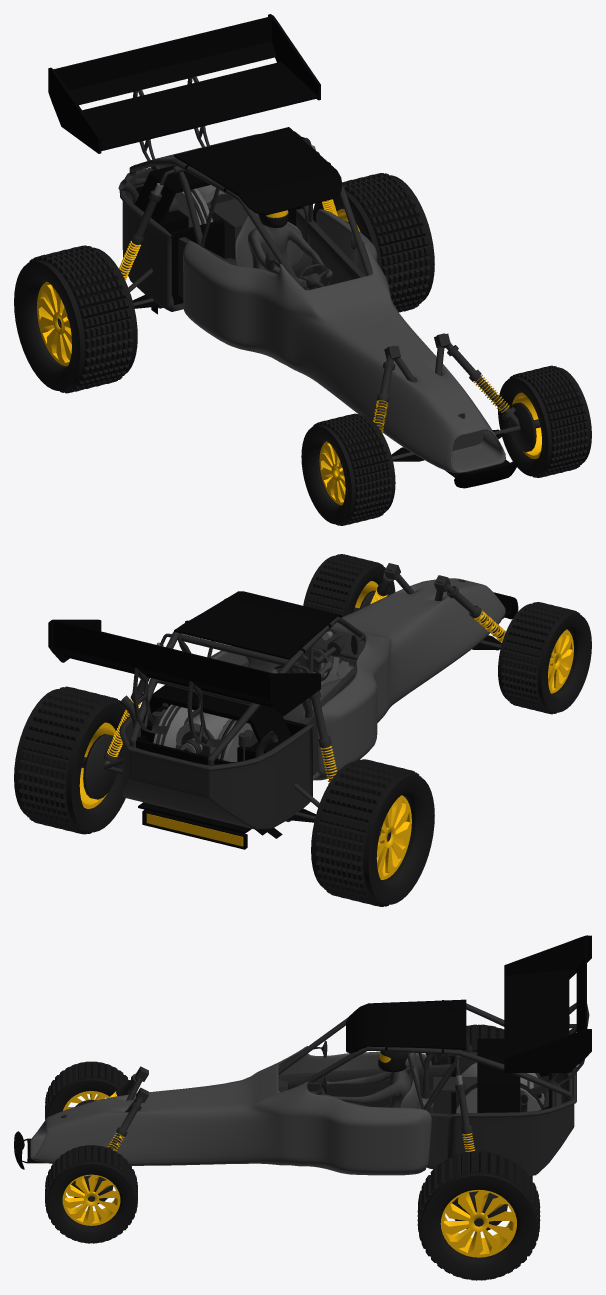
File: Space buggy.fbx
The picture shows the model from 3 angles, top to bottom: view 1: azimuth 30°, elevation 25°; view 2: azimuth 150°, elevation 25°; view 3: azimuth 270°, elevation 25°; orthographic projection. The views are drawn at different scales.
Visible parts, largest first — view 1: pCube21, pCube3, pPipe4, pCube19, pPipe1, pPipe2, pPipe3, pCube5, pCube11, pCube13, pCube6, pCylinder1 (+10 smaller); view 2: pCube21, pPipe4, pCube5, pPipe1, pCube3, pPipe2, pCube19, pCube6, pPipe3, pCube11, pCylinder1, pCube7 (+13 smaller); view 3: pCube21, pCube3, pPipe1, pCube5, pCube19, pPipe3, pCylinder62, pCube13, pCube6, pPipe2, pCube11, pCylinder59 (+12 smaller).
Boxes of the visible parts, x1,y1,x2,y2 form: pCube21: (183,209,505,473); pCube3: (48,14,320,153); pPipe4: (14,245,137,393); pCube19: (174,127,342,215); pPipe1: (313,173,434,312); pPipe2: (301,413,395,525); pPipe3: (498,365,591,477); pCube5: (119,165,312,311); pCube11: (129,131,372,288); pCube13: (178,208,365,298); pCube6: (135,165,210,232); pCylinder1: (37,281,71,366); pCube21: (210,578,505,780); pPipe4: (311,759,434,906); pCube5: (119,703,315,829); pPipe1: (14,686,125,834); pCube3: (48,619,320,716); pPipe2: (498,602,591,714); pCube19: (174,591,342,659); pCube6: (136,685,291,764); pPipe3: (303,554,395,616); pCube11: (129,615,365,765); pCylinder1: (376,795,411,879); pCube7: (138,704,307,849); pCube21: (30,1046,431,1175); pCube3: (504,935,591,1072); pPipe1: (417,1151,540,1280); pCube5: (447,1052,576,1176); pCube19: (346,999,466,1053); pPipe3: (45,1145,137,1243); pCylinder62: (440,1190,516,1257); pCube13: (278,1064,451,1165); pCube6: (477,1038,552,1112); pPipe2: (45,1061,131,1119); pCube11: (278,1003,572,1100); pCylinder59: (62,1174,120,1225).
Bounding box in the file's own units: 11.27 × 7.86 × 18.27.
